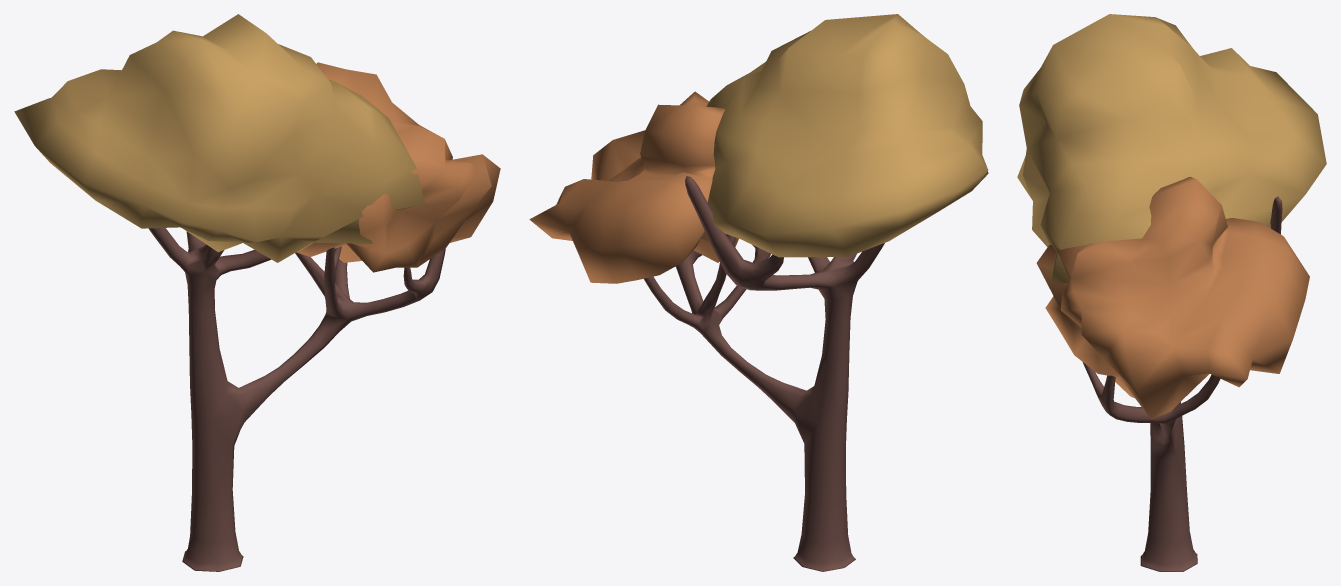
Rendered from CommonTree_Autumn_2.glb.
3 renders of one model, left to right at view 1: azimuth 30°, elevation 25°; view 2: azimuth 150°, elevation 25°; view 3: azimuth 270°, elevation 25°, orthographic. The views are drawn at different scales.
Parts seen in each view (by area): view 1: CommonTree_Autumn_2; view 2: CommonTree_Autumn_2; view 3: CommonTree_Autumn_2.
Boxes of the visible parts, x1,y1,x2,y2 form: CommonTree_Autumn_2: [14, 14, 500, 571]; CommonTree_Autumn_2: [529, 14, 988, 571]; CommonTree_Autumn_2: [1017, 14, 1326, 571].
Bounding box in the file's own units: 2.54 × 3.12 × 1.66.
